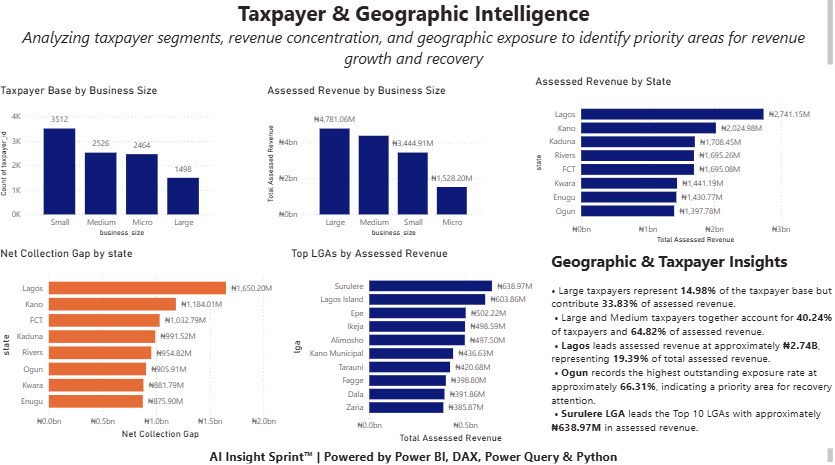

The dashboard page shown, as its layout file describes it:
{"tool":"powerbi","page":{"name":"Taxpayer & Geographic Intelligence","canvas":[1280,720],"ordinal":3},"visuals":[{"type":"clusteredColumnChart","title":"Taxpayer Base by Business Size","fields":{"Category":["taxpayers_raw.business_size"],"Y":["CountNonNull(taxpayers_raw.taxpayer_id)"]},"box":[0,135.8,340.2,238],"z":0},{"type":"textbox","box":[0,0,1279.8,135.8],"z":1000},{"type":"textbox","box":[0,687,1279.7,33.3],"z":2000},{"type":"clusteredColumnChart","title":"Assessed Revenue by Business Size","fields":{"Category":["taxpayers_raw.business_size"],"Y":["Measure1.Total Assessed Revenue"]},"box":[407.3,135.8,340.2,238],"z":3000},{"type":"clusteredBarChart","title":"Assessed Revenue by State","fields":{"Category":["taxpayers_raw.state"],"Y":["Measure1.Total Assessed Revenue"]},"box":[816.1,135.8,443.9,248.6],"z":4000},{"type":"barChart","fields":{"Category":["taxpayers_raw.state"],"Y":["Measure1.Outstanding Exposure"]},"box":[0,384.4,443.9,297.5],"z":5000},{"type":"clusteredBarChart","title":"Top LGAs by Assessed Revenue","fields":{"Category":["taxpayers_raw.lga"],"Y":["Measure1.Total Assessed Revenue"]},"box":[443.9,384.4,396.6,303.6],"z":6000},{"type":"textbox","box":[840.5,384.4,439.3,303.6],"z":7000}]}

Visuals, with their boxes in screenshot pixels (x1, y1, x2, y2), scaled from the page's 1280x720 canvas onto the 835x465 screenshot:
"Taxpayer Base by Business Size" clusteredColumnChart: x1=0 y1=88 x2=222 y2=241
textbox: x1=0 y1=0 x2=834 y2=88
textbox: x1=0 y1=444 x2=834 y2=464
"Assessed Revenue by Business Size" clusteredColumnChart: x1=266 y1=88 x2=488 y2=241
"Assessed Revenue by State" clusteredBarChart: x1=532 y1=88 x2=822 y2=248
barChart - taxpayers_raw.state x Measure1.Outstanding Exposure: x1=0 y1=248 x2=290 y2=440
"Top LGAs by Assessed Revenue" clusteredBarChart: x1=290 y1=248 x2=548 y2=444
textbox: x1=548 y1=248 x2=834 y2=444
